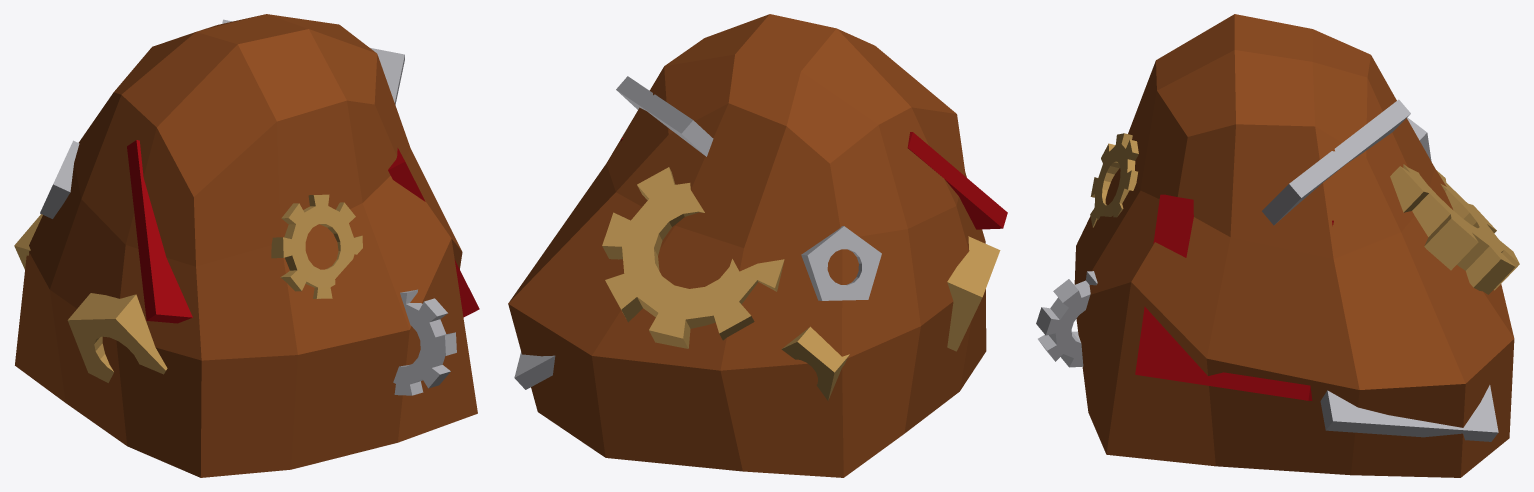
Rendered from ResourceScrapMetalV1.fbx.
The picture shows the model from 3 angles, left to right: view 1: azimuth 30°, elevation 25°; view 2: azimuth 150°, elevation 25°; view 3: azimuth 270°, elevation 25°; orthographic projection. The views are drawn at different scales.
Visible parts, largest first — view 1: pile.002; view 2: pile.002; view 3: pile.002.
Boxes of the visible parts, <box> form: pile.002: <box>14,14,479,477</box>; pile.002: <box>508,14,1007,477</box>; pile.002: <box>1036,14,1519,477</box>.
Bounding box in the file's own units: 277 × 236 × 277.
